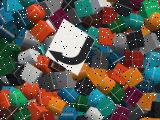Right: (45, 18, 95, 76)
